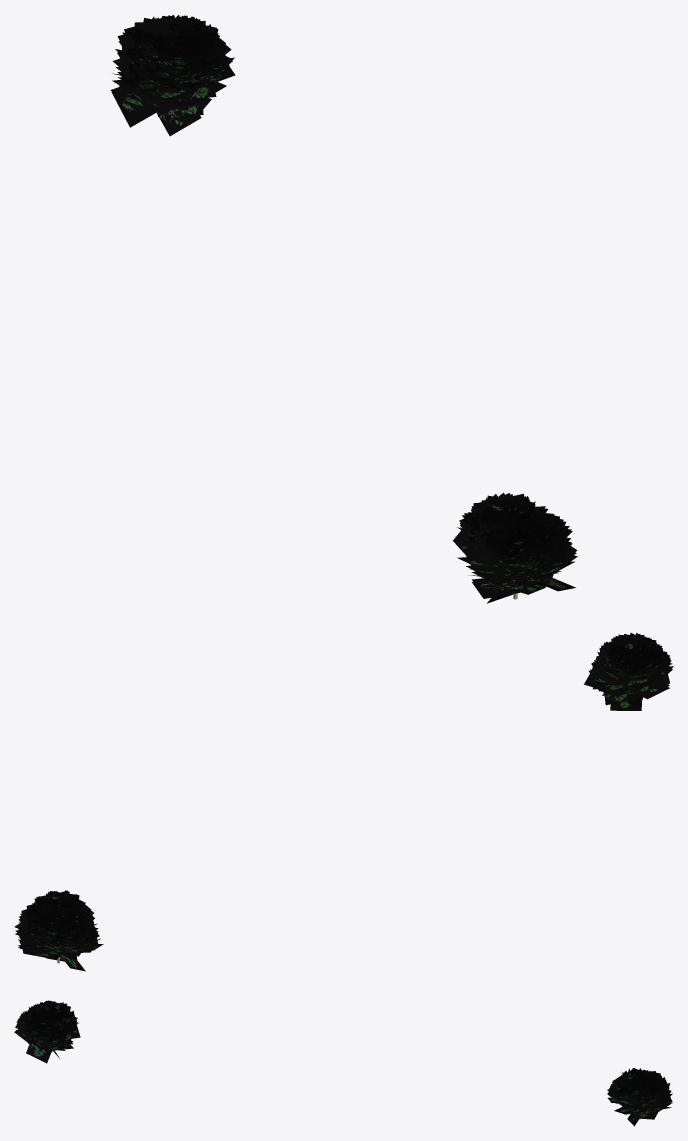
File: shrubs.glb
3 renders of one model, top to bottom at view 1: azimuth 30°, elevation 25°; view 2: azimuth 150°, elevation 25°; view 3: azimuth 270°, elevation 25°, orthographic. The views are drawn at different scales.
Parts seen in each view (by area): view 1: shrubleaves; view 2: shrubleaves; view 3: shrubleaves.
Part boxes in pixels (x1=…): shrubleaves: x1=110, y1=15, x2=577, y2=603; shrubleaves: x1=14, y1=632, x2=673, y2=971; shrubleaves: x1=14, y1=1000, x2=672, y2=1126.
Size of the model in its own units: 63.15 by 19.84 by 205.
Materials: 2 (1 with a texture image).
